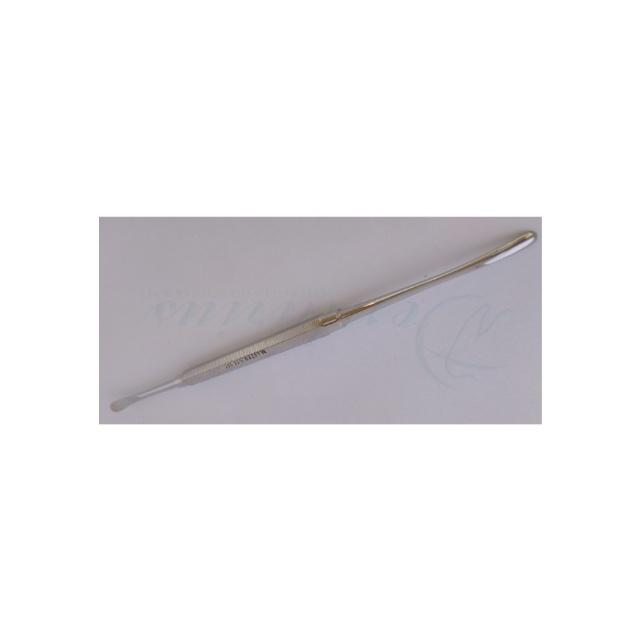elevador: (109, 231, 538, 414)
